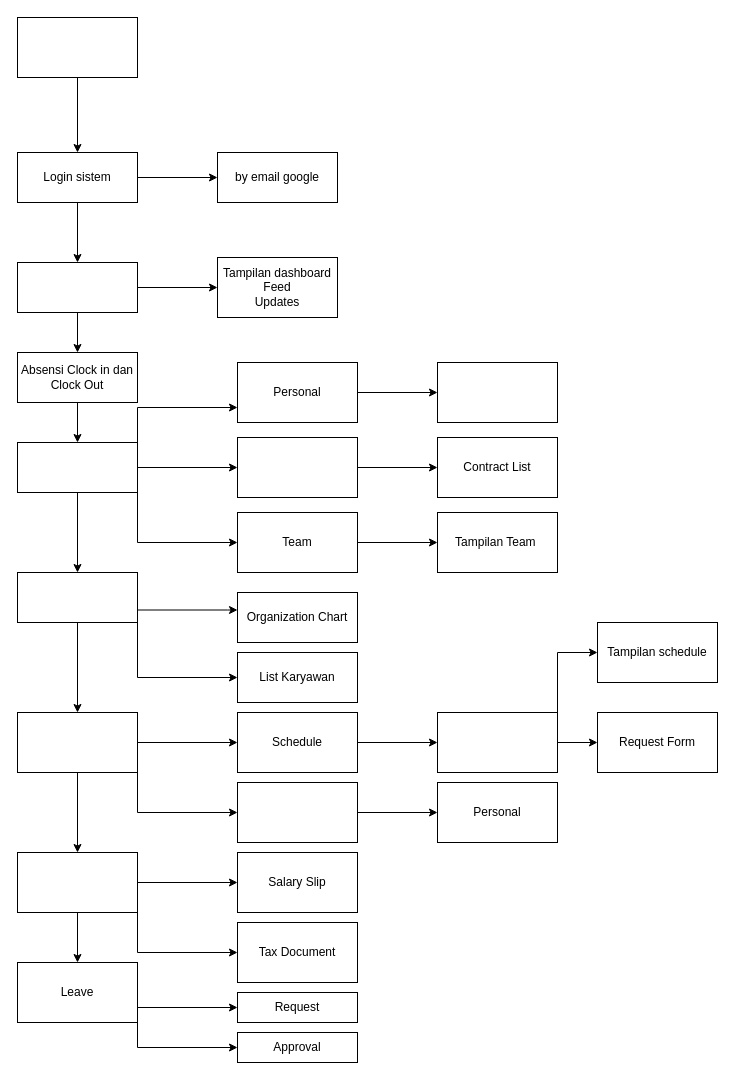
The diagram is 735 pixels wide and 1080 high, and some of its shapes have lost their labels. Here are the shapes that lost their labels. From the top down, the box of each, then its label:
(16, 16, 138, 78): Mulai aplikasi
(16, 262, 138, 312): Dashboard utama
(436, 362, 558, 422): Basic Information dan Bank Account
(16, 442, 138, 492): Profile
(236, 436, 358, 498): Contract
(16, 572, 138, 622): Employe
(16, 712, 138, 772): Attendance
(436, 712, 558, 772): View dan Request
(236, 782, 358, 842): Record
(16, 852, 138, 912): Payroll
